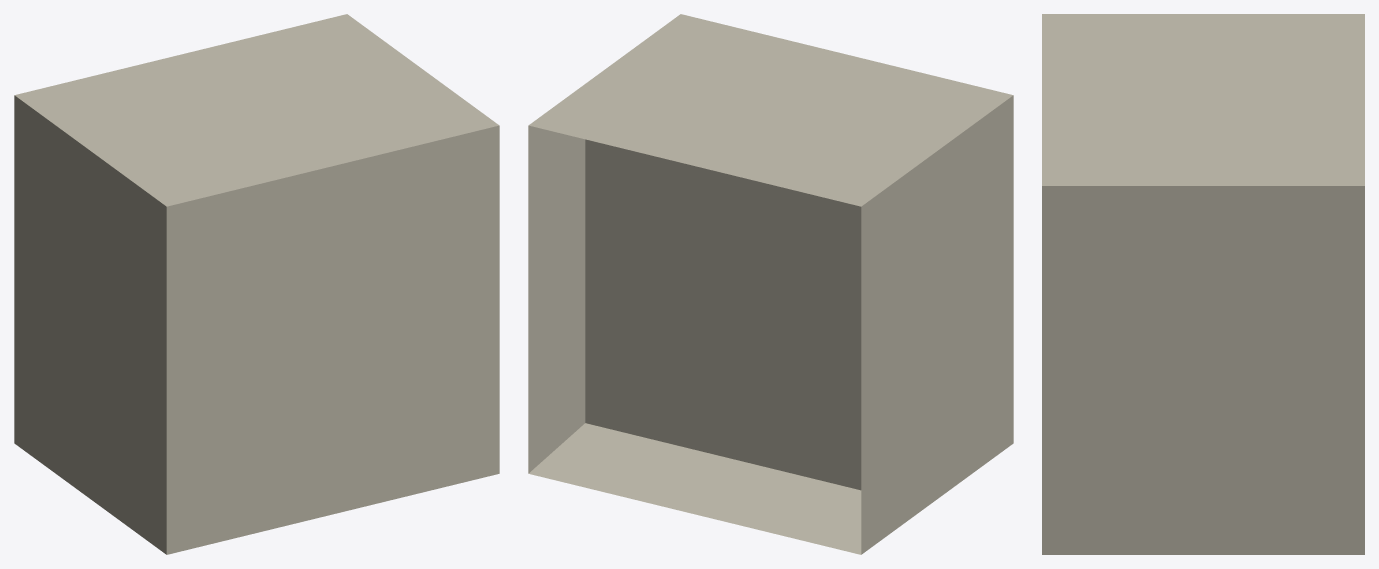
File: SM_GroundFix_Actor_200_Body.fbx
3 renders of one model, left to right at view 1: azimuth 30°, elevation 25°; view 2: azimuth 150°, elevation 25°; view 3: azimuth 270°, elevation 25°, orthographic. The views are drawn at different scales.
Visible parts, largest first — view 1: SM_GroundFix_Actor_200_Body; view 2: SM_GroundFix_Actor_200_Body; view 3: SM_GroundFix_Actor_200_Body.
Boxes of the visible parts, x1=… form: SM_GroundFix_Actor_200_Body: x1=14, y1=14, x2=499, y2=554; SM_GroundFix_Actor_200_Body: x1=528, y1=14, x2=1013, y2=554; SM_GroundFix_Actor_200_Body: x1=1042, y1=14, x2=1364, y2=554.
Bounding box in the file's own units: 1 × 0.7928 × 1.
